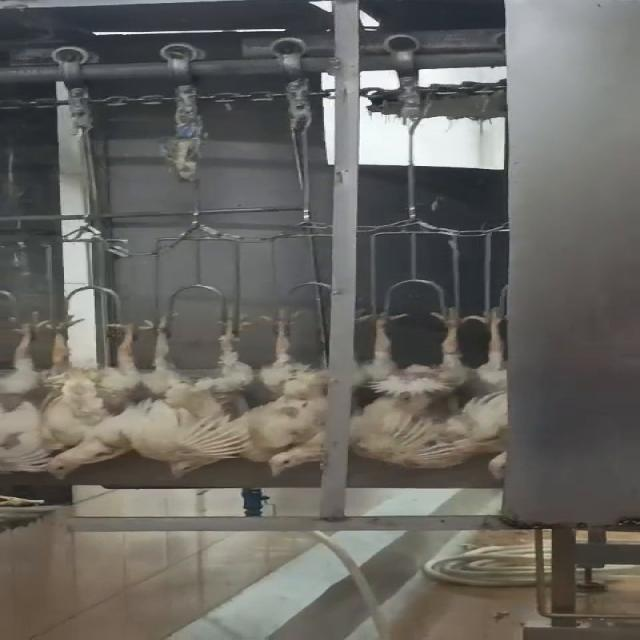chicken: (350, 300, 475, 474), (132, 303, 248, 481), (37, 304, 147, 483), (245, 302, 328, 479), (464, 292, 512, 482), (0, 318, 51, 478)
